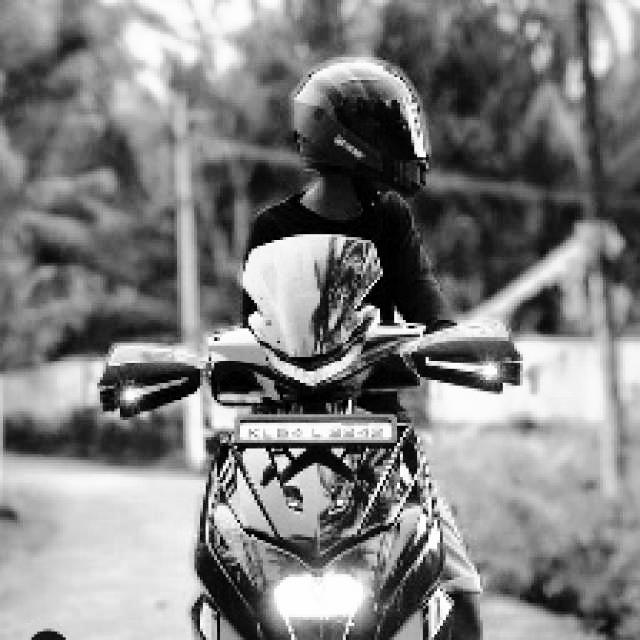Bike: (154, 255, 504, 639)
